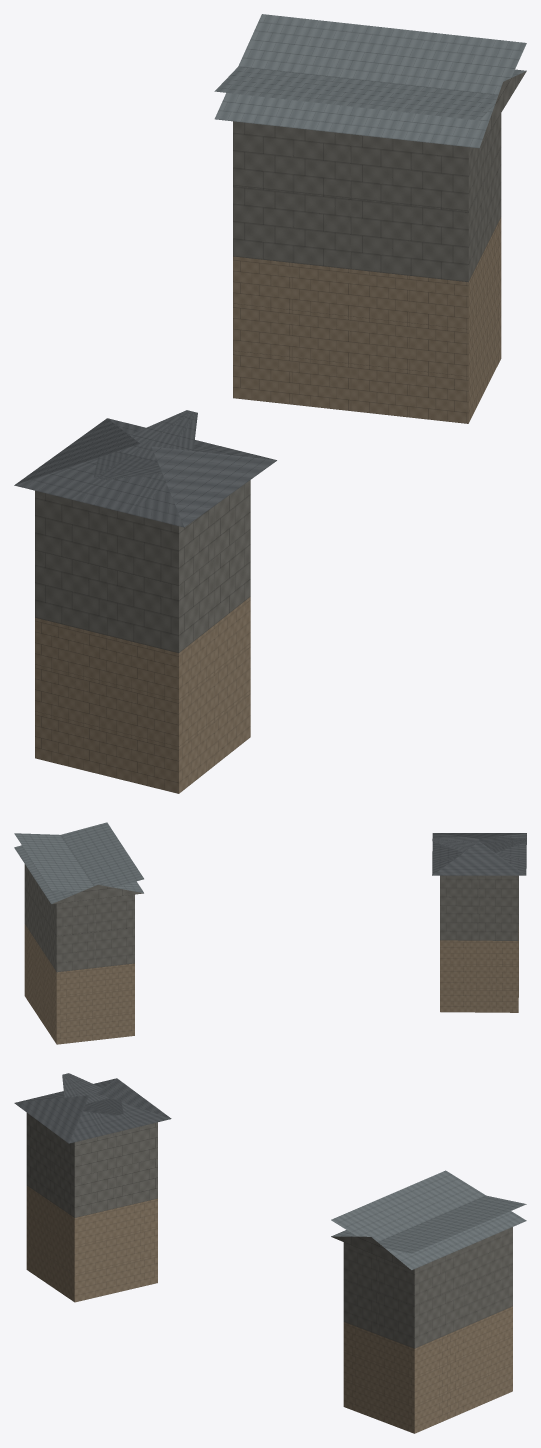
File: bld_c16_-48_627.gltf
3 views of the same model, one above another, from view 1: azimuth 30°, elevation 25°; view 2: azimuth 150°, elevation 25°; view 3: azimuth 270°, elevation 25° (orthographic). The views are drawn at different scales.
Parts seen in each view (by area): view 1: bld_c16_-48_627; view 2: bld_c16_-48_627; view 3: bld_c16_-48_627.
Boxes of the visible parts, x1,y1,x2,y2 form: bld_c16_-48_627: (14, 14, 526, 793); bld_c16_-48_627: (14, 822, 526, 1044); bld_c16_-48_627: (14, 1073, 526, 1433).
Size of the model in its own units: 28.55 by 12.7 by 27.85.
Materials: 5 (5 with a texture image).
